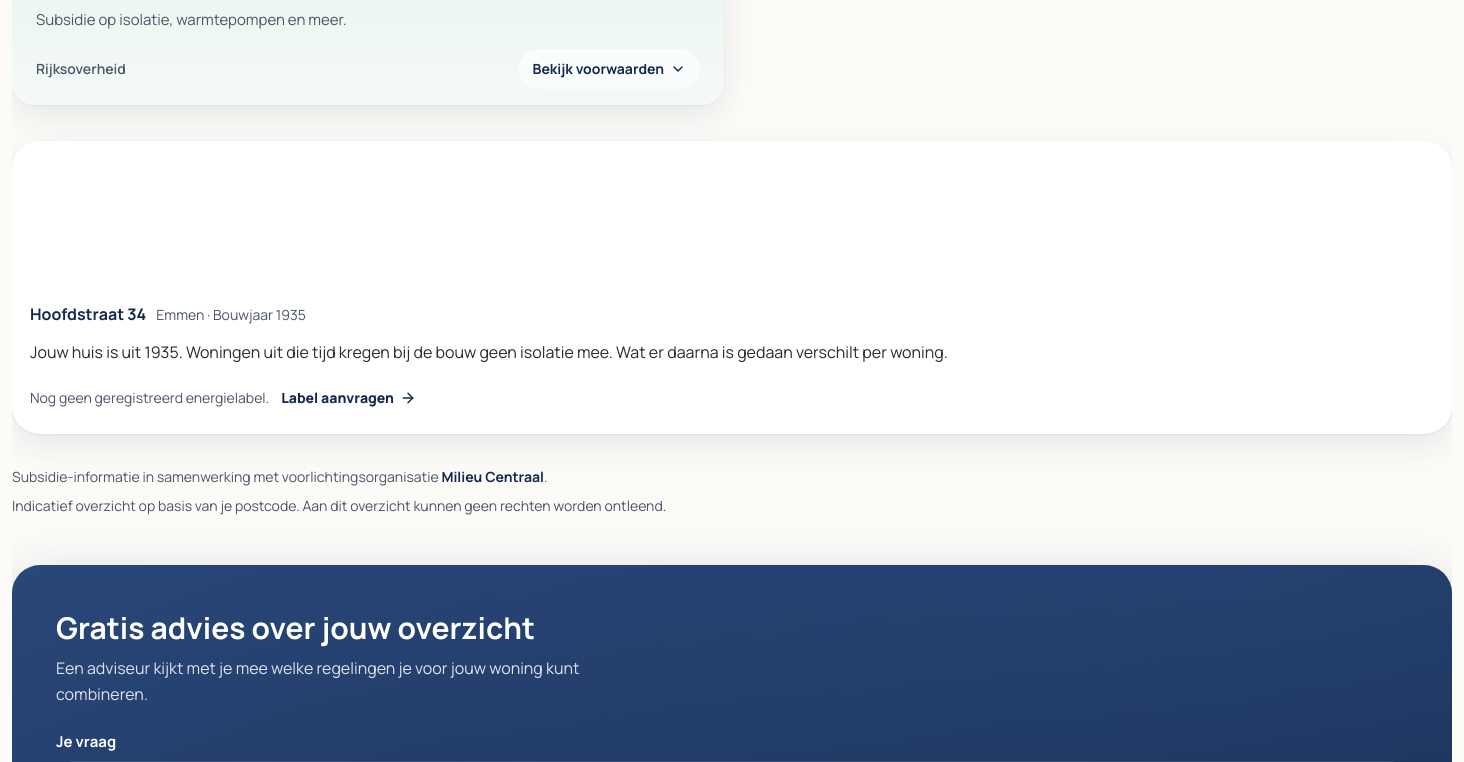
Scenario: label aanvragen zonder de pagina te verlaten › vult de aanvraag in het vraagblok in plaats van door te linken naar /contact
(page scrolled)
Click the button "Label aanvragen".
click(348, 398)  # box [281,382,416,414]
(page scrolled)
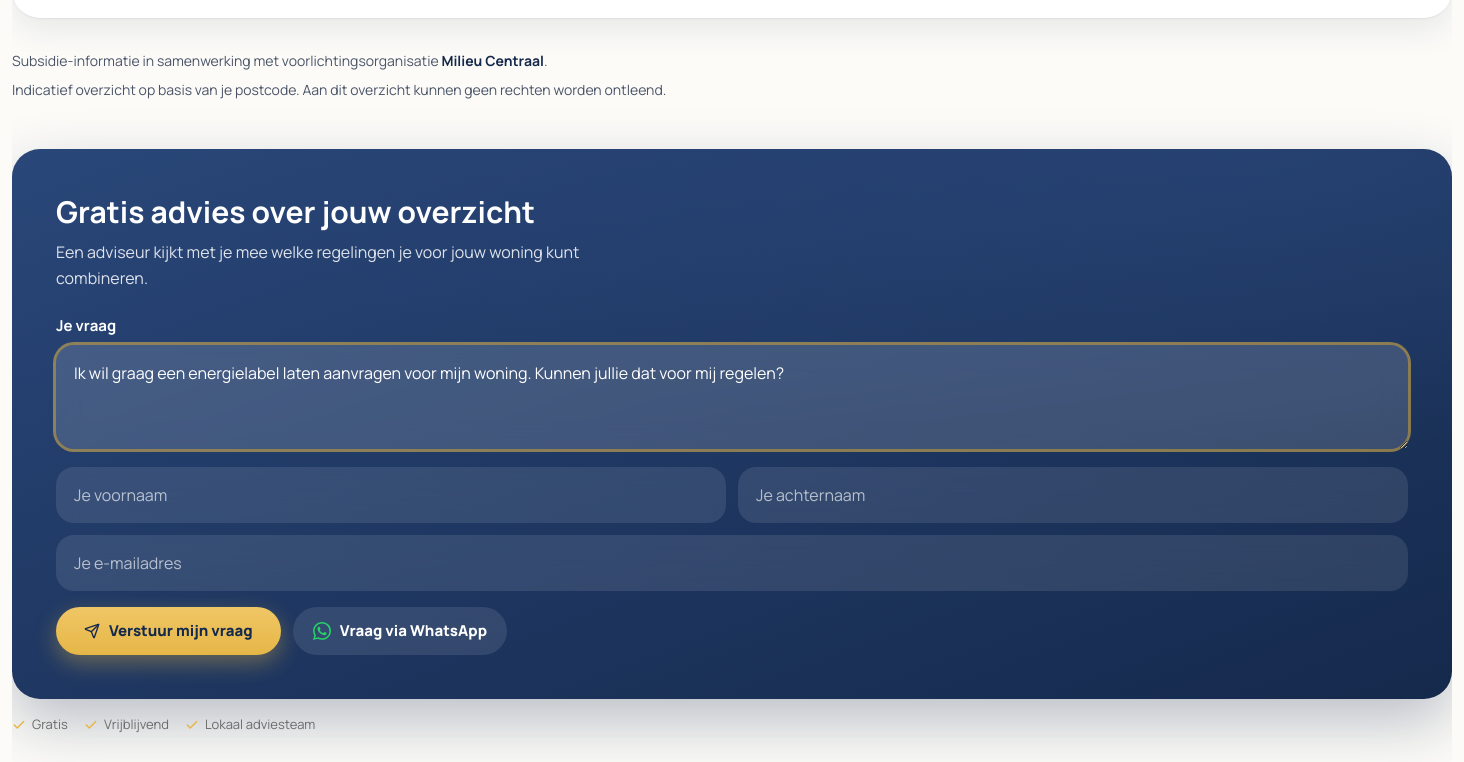
Now the text box labelled "Je vraag" holds "Ik wil graag een energielabel laten aanvragen voor mijn woning. Kunnen jullie dat voor mij regelen?", box [56,345,1408,449]
